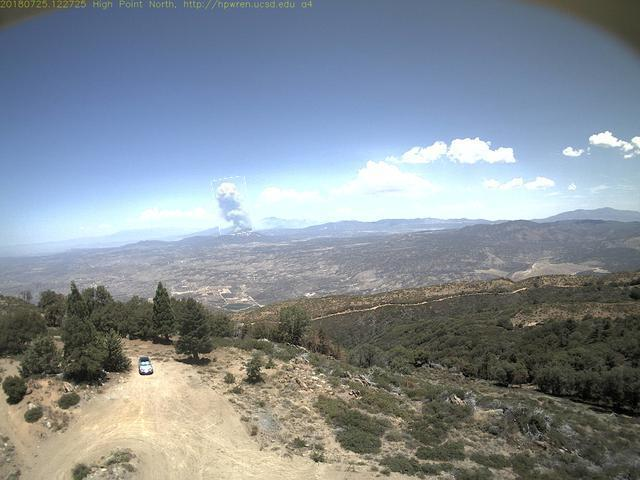smoke: (215, 178, 252, 236)
